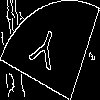Y: (25, 24, 62, 80)
